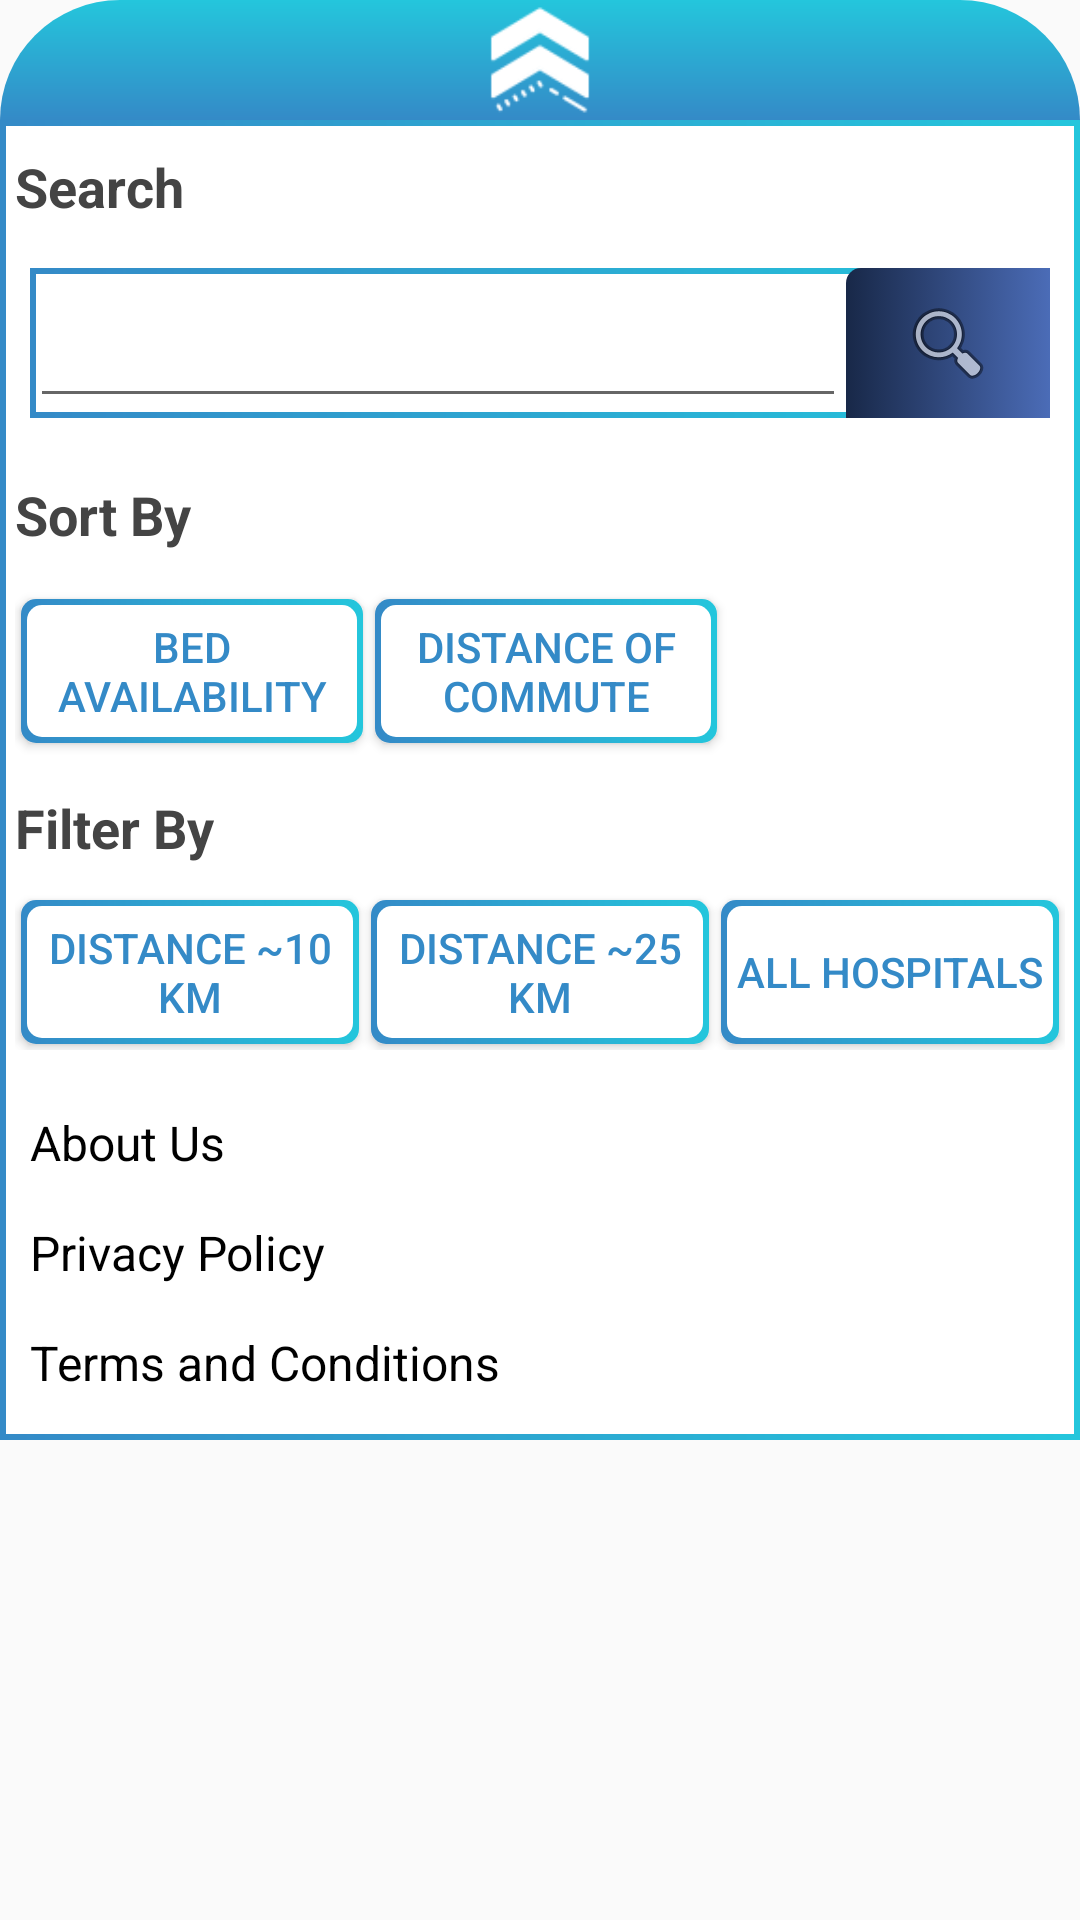

Icons on this 1080px×1920px Android screen, each with its box as (x1, y1, x2, y2):
search: (846, 268, 1050, 418)
